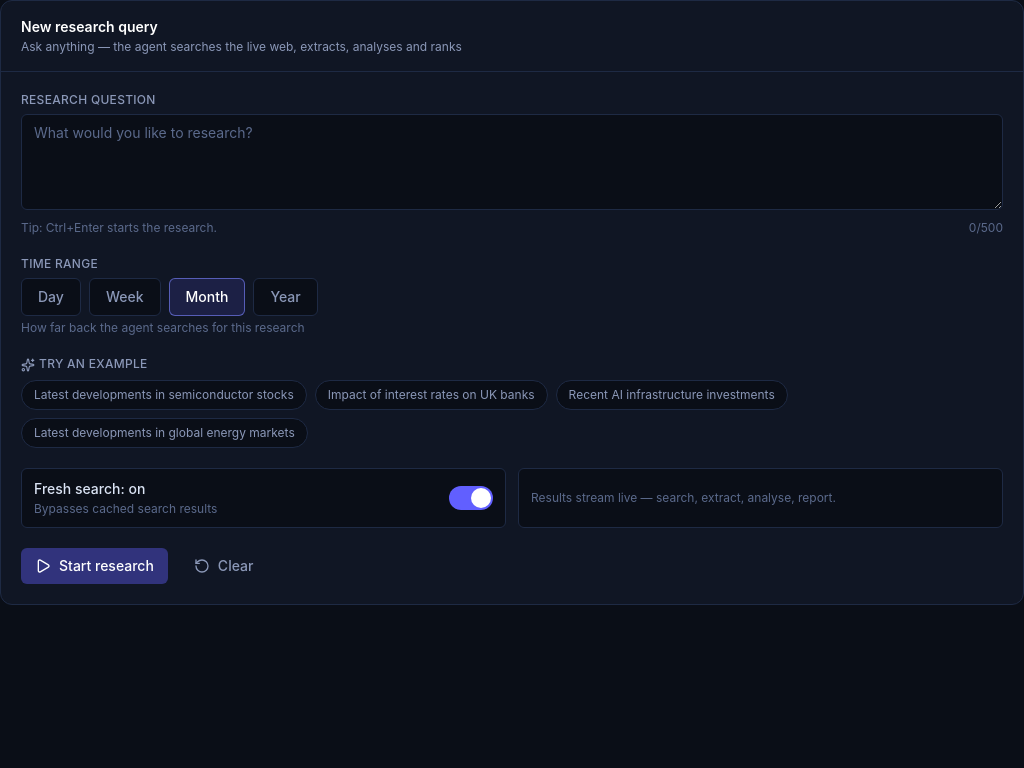
QueryResearchForm › clicking an example populates the query field without submitting
Step 1. Click the button "Impact of interest rates on UK banks" → point(431, 395), box [315,380,548,410]
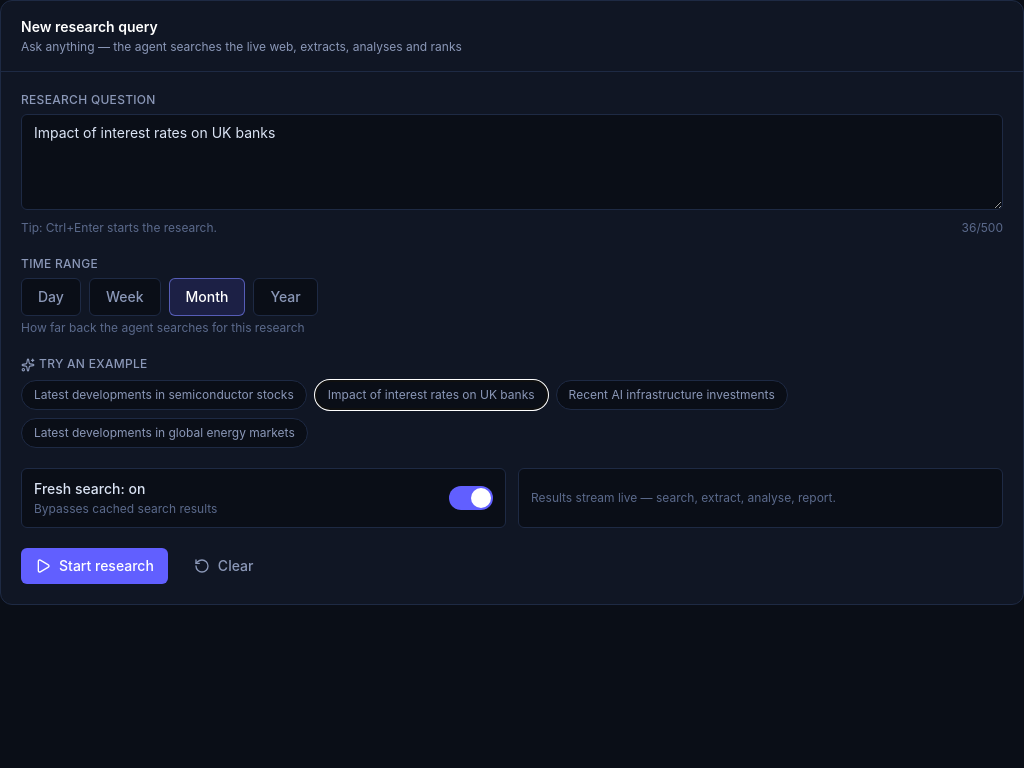
Expected: the text box with placeholder "What would you like to research?" holds "Impact of interest rates on UK banks", [21,114,1003,210]
